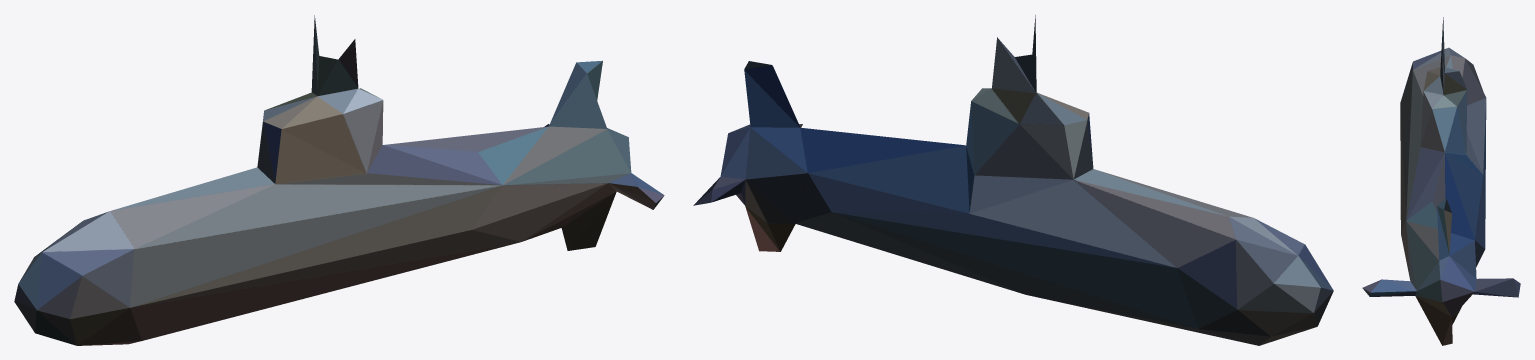
File: submarine.fbx
3 views of the same model, side by side, from view 1: azimuth 30°, elevation 25°; view 2: azimuth 150°, elevation 25°; view 3: azimuth 270°, elevation 25° (orthographic). The views are drawn at different scales.
Visible parts, largest first — view 1: Mesh_0; view 2: Mesh_0; view 3: Mesh_0.
Boxes of the visible parts, left/top/right/bottom form: Mesh_0: left=14, top=15, right=664, bottom=345; Mesh_0: left=693, top=15, right=1333, bottom=345; Mesh_0: left=1362, top=17, right=1520, bottom=345.
Bounding box in the file's own units: 118 × 56.2 × 35.32.
1 material, 1 textured.
